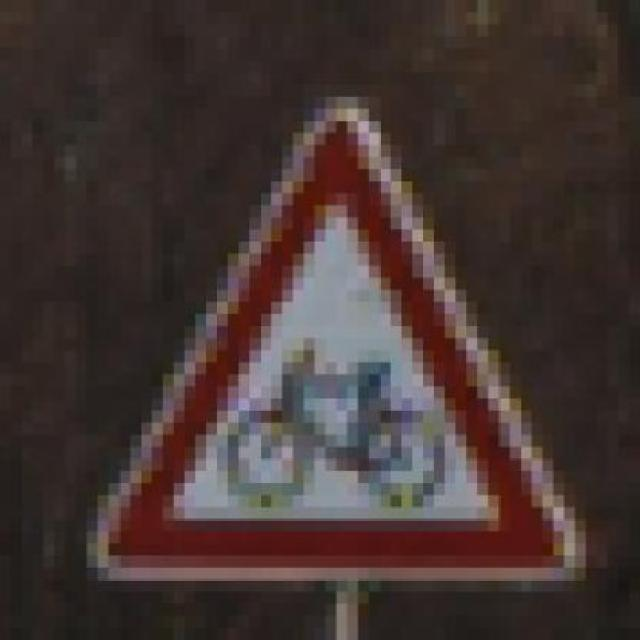CYCLE ROUTE AHEAD WARNING: (54, 72, 597, 605)
